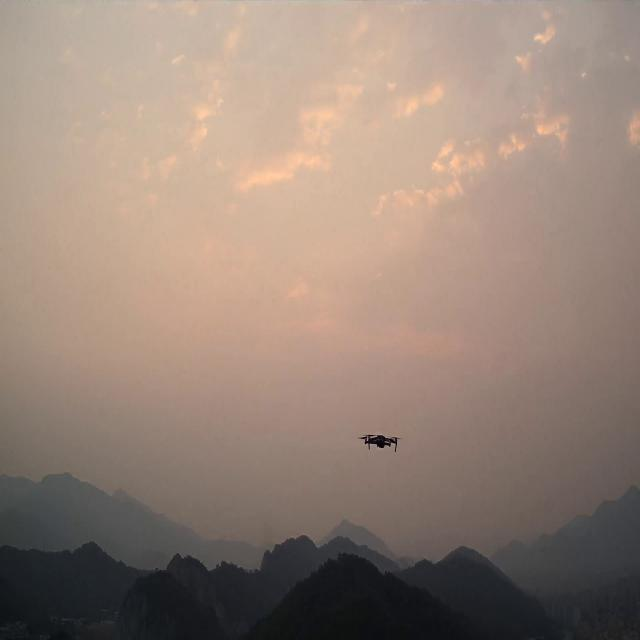UAV: (357, 431, 404, 453)
